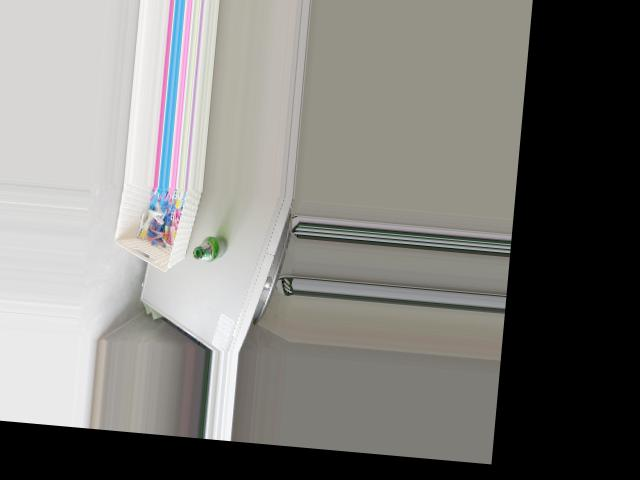beer: (193, 234, 229, 262)
